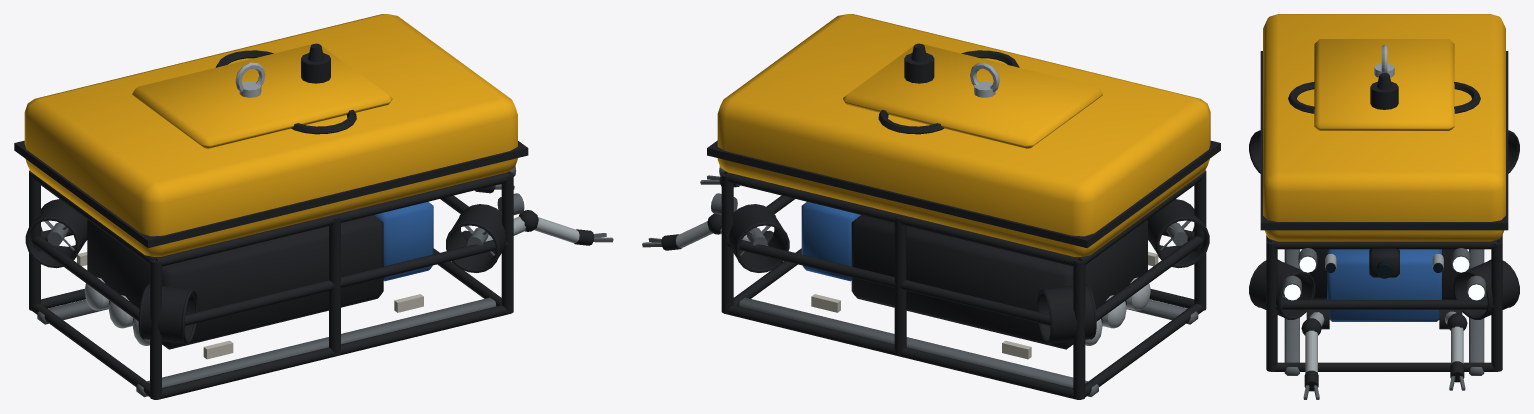
File: rov.glb
3 views of the same model, side by side, from view 1: azimuth 30°, elevation 25°; view 2: azimuth 150°, elevation 25°; view 3: azimuth 270°, elevation 25° (orthographic). The views are drawn at different scales.
Visible parts, largest first — view 1: rov_amarelo_sub, rov_preto_rov, rov_aco_escuro, rov_azul_eq, rov_aco, rov_anodo; view 2: rov_amarelo_sub, rov_preto_rov, rov_aco_escuro, rov_azul_eq, rov_aco, rov_anodo; view 3: rov_amarelo_sub, rov_preto_rov, rov_azul_eq, rov_aco_escuro, rov_aco, rov_luz_led, rov_vidro.
Boxes of the visible parts, x1,y1,x2,y2 form: rov_amarelo_sub: (24, 14, 517, 256); rov_preto_rov: (14, 43, 594, 399); rov_aco_escuro: (37, 166, 613, 397); rov_azul_eq: (374, 201, 433, 281); rov_aco: (84, 62, 579, 345); rov_anodo: (77, 252, 423, 359); rov_amarelo_sub: (717, 14, 1210, 256); rov_preto_rov: (661, 43, 1220, 399); rov_aco_escuro: (642, 166, 1198, 396); rov_azul_eq: (801, 202, 860, 281); rov_aco: (676, 62, 1150, 345); rov_anodo: (811, 252, 1158, 359); rov_amarelo_sub: (1263, 14, 1505, 241); rov_preto_rov: (1249, 51, 1519, 391); rov_azul_eq: (1327, 249, 1441, 321); rov_aco_escuro: (1282, 248, 1486, 399); rov_aco: (1305, 44, 1463, 372); rov_luz_led: (1284, 256, 1484, 300); rov_vidro: (1325, 260, 1443, 278).
Size of the model in its own units: 4.1 by 2.07 by 2.12.
